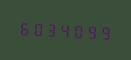four: (56, 19, 68, 40)
nine: (82, 20, 94, 41), (95, 21, 107, 42)
six: (17, 17, 29, 38)
three: (43, 18, 55, 39)
zero: (30, 18, 42, 38), (69, 20, 81, 40)
